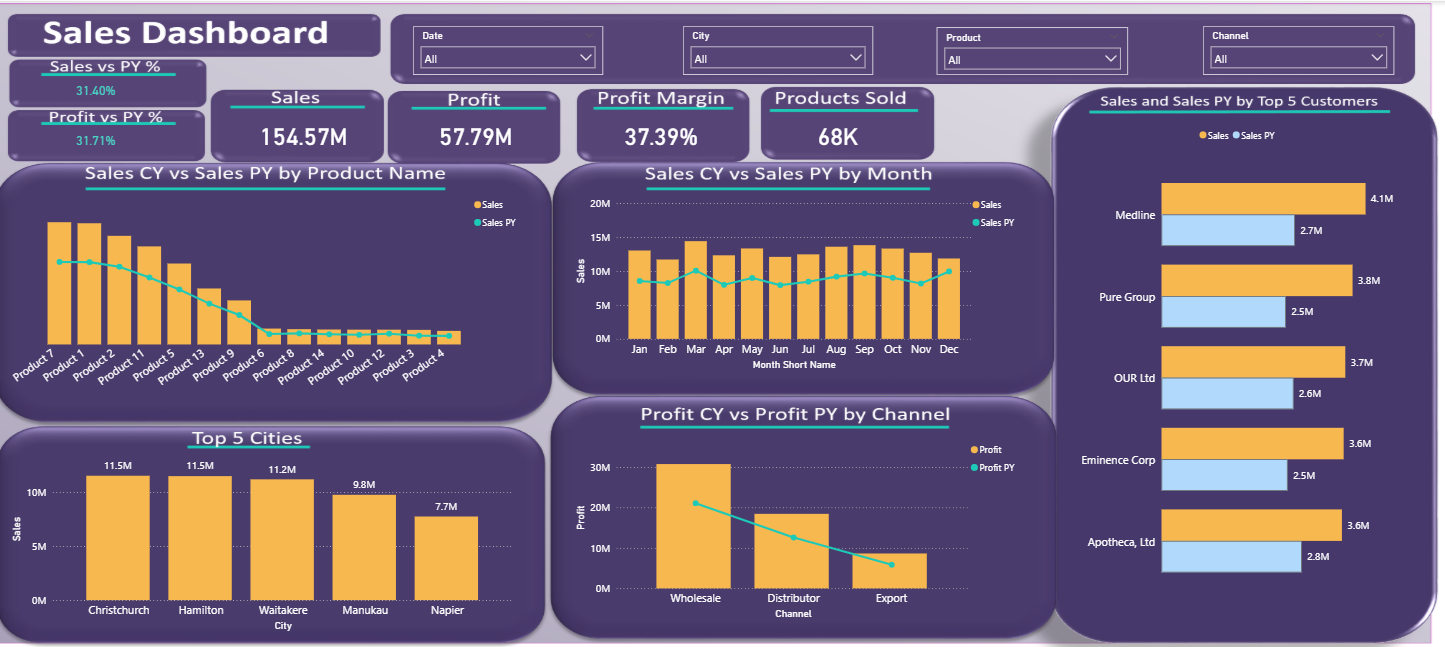

This screenshot's page, from the dashboard's own definition file:
{"tool":"powerbi","page":{"name":"Sales Dashboard","canvas":[2250,970],"ordinal":0},"visuals":[{"type":"slicer","fields":{"Values":["DateTable.Year","DateTable.Month Short Name Plus Year"]},"box":[613.6,36.1,274.3,70.4],"z":0},{"type":"slicer","fields":{"Values":["Regions.City"]},"box":[1003.4,36.1,274.3,70.4],"z":1000},{"type":"slicer","fields":{"Values":["Sales.Channel"]},"box":[1754.1,36.1,276.1,70.4],"z":2000},{"type":"slicer","fields":{"Values":["Products.Product Name"]},"box":[1369.7,37.9,276.1,68.6],"z":3000},{"type":"card","fields":{"Values":["Measures table.Sales VS PY %"]},"box":[96.1,106.3,149.2,45],"z":4000},{"type":"card","fields":{"Values":["Measures table.Profit VS PY %"]},"box":[96.1,181.9,149.2,40.9],"z":5000},{"type":"card","fields":{"Values":["Measures table.Sales"]},"box":[362.7,151.6,185.9,83],"z":6000},{"type":"card","fields":{"Values":["Measures table.Products Sold"]},"box":[1140.5,151.6,173.2,83],"z":7000},{"type":"card","fields":{"Values":["Measures table.Profit Margin"]},"box":[887.9,151.6,167.8,83],"z":8000},{"type":"card","fields":{"Values":["Measures table.Profit"]},"box":[631.6,151.6,144.4,83],"z":9000},{"type":"lineClusteredColumnComboChart","title":"Sales CY vs Sales PY by Product Name","fields":{"Category":["Products.Product Name"],"Y":["Measures table.Sales"],"Y2":["Measures table.Sales PY"]},"box":[29.3,276.3,747.7,303.9],"z":10000},{"type":"lineClusteredColumnComboChart","title":"Sales CY vs Sales PY by Month","fields":{"Y":["Measures table.Sales"],"Y2":["Measures table.Sales PY"],"Category":["DateTable.Month Short Name"]},"box":[841.9,276.3,653.4,261.7],"z":11000},{"type":"columnChart","title":"Top 5 Cities","fields":{"Category":["Regions.City"],"Y":["Measures table.Sales"]},"box":[28.9,646.1,734.5,268.9],"z":12000},{"type":"lineClusteredColumnComboChart","title":"Profit CY vs Profit PY by Channel","fields":{"Category":["Sales.Channel"],"Y":["Measures table.Profit"],"Y2":["Measures table.Profit PY"]},"box":[841.9,630.6,653.4,268.2],"z":13000},{"type":"clusteredBarChart","fields":{"Y":["Measures table.Sales","Measures table.Sales PY"],"Category":["Customer.Customer Names"]},"box":[1566.8,173.9,477.9,707],"z":14000}]}

Visuals, with their boxes on the page's 2250x970 design canvas (x1, y1, x2, y2). These are canvas units, not pixel positions in the 1445x647 screenshot, which may show the page scaled, cropped or inside an application window:
slicer - DateTable.Year x DateTable.Month Short Name Plus Year: {"left": 614, "top": 36, "right": 888, "bottom": 106}
slicer - Regions.City: {"left": 1003, "top": 36, "right": 1278, "bottom": 106}
slicer - Sales.Channel: {"left": 1754, "top": 36, "right": 2030, "bottom": 106}
slicer - Products.Product Name: {"left": 1370, "top": 38, "right": 1646, "bottom": 106}
card - Measures table.Sales VS PY %: {"left": 96, "top": 106, "right": 245, "bottom": 151}
card - Measures table.Profit VS PY %: {"left": 96, "top": 182, "right": 245, "bottom": 223}
card - Measures table.Sales: {"left": 363, "top": 152, "right": 549, "bottom": 235}
card - Measures table.Products Sold: {"left": 1140, "top": 152, "right": 1314, "bottom": 235}
card - Measures table.Profit Margin: {"left": 888, "top": 152, "right": 1056, "bottom": 235}
card - Measures table.Profit: {"left": 632, "top": 152, "right": 776, "bottom": 235}
"Sales CY vs Sales PY by Product Name" lineClusteredColumnComboChart: {"left": 29, "top": 276, "right": 777, "bottom": 580}
"Sales CY vs Sales PY by Month" lineClusteredColumnComboChart: {"left": 842, "top": 276, "right": 1495, "bottom": 538}
"Top 5 Cities" columnChart: {"left": 29, "top": 646, "right": 763, "bottom": 915}
"Profit CY vs Profit PY by Channel" lineClusteredColumnComboChart: {"left": 842, "top": 631, "right": 1495, "bottom": 899}
clusteredBarChart - Measures table.Sales x Measures table.Sales PY: {"left": 1567, "top": 174, "right": 2045, "bottom": 881}
